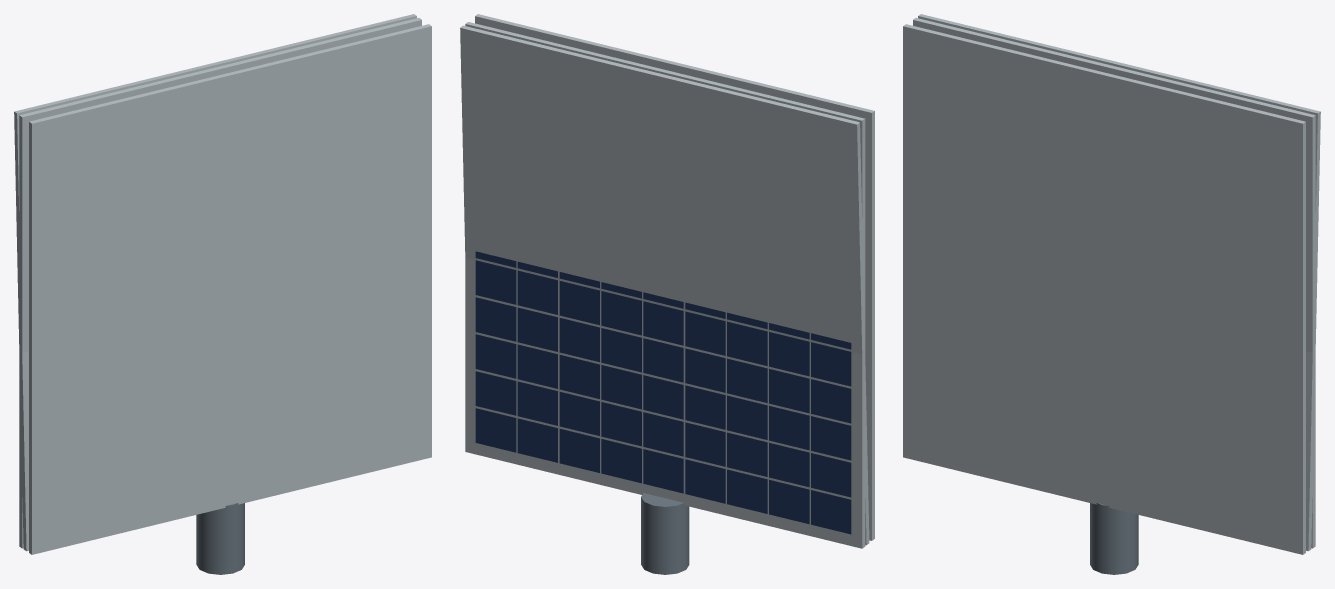
Rendered from orion_solar_wing_stowed.glb.
3 views of the same model, side by side, from view 1: azimuth 30°, elevation 25°; view 2: azimuth 150°, elevation 25°; view 3: azimuth 330°, elevation 25° (orthographic).
Parts seen in each view (by area): view 1: orion_esmwing_01panel_01panel_02panel_03cellsmesh_Satin_alum, orion_esmwing_01panel_01cellsmesh_Satin_aluminum, orion_esmwing_01panel_01panel_02cellsmesh_Satin_aluminum, orion_esmwing_01mesh_Machined_steel; view 2: orion_esmwing_01panel_01panel_02cellsmesh_Satin_aluminum, orion_esmwing_01panel_01cellsmesh_Indigo_solar_cells, orion_esmwing_01panel_01cellsmesh_Satin_aluminum, orion_esmwing_01panel_01panel_02panel_03cellsmesh_Satin_alum, orion_esmwing_01mesh_Machined_steel; view 3: orion_esmwing_01panel_01panel_02panel_03cellsmesh_Satin_alum, orion_esmwing_01panel_01cellsmesh_Satin_aluminum, orion_esmwing_01panel_01panel_02cellsmesh_Satin_aluminum, orion_esmwing_01mesh_Machined_steel.
Boxes of the visible parts, box(x1,y1,x2,y2) form: orion_esmwing_01panel_01panel_02panel_03cellsmesh_Satin_alum: box(29, 24, 431, 554); orion_esmwing_01panel_01cellsmesh_Satin_aluminum: box(19, 18, 421, 548); orion_esmwing_01panel_01panel_02cellsmesh_Satin_aluminum: box(14, 14, 416, 551); orion_esmwing_01mesh_Machined_steel: box(196, 503, 244, 574); orion_esmwing_01panel_01panel_02cellsmesh_Satin_aluminum: box(460, 25, 869, 545); orion_esmwing_01panel_01cellsmesh_Indigo_solar_cells: box(475, 251, 851, 534); orion_esmwing_01panel_01cellsmesh_Satin_aluminum: box(465, 22, 865, 548); orion_esmwing_01panel_01panel_02panel_03cellsmesh_Satin_alum: box(475, 14, 874, 540); orion_esmwing_01mesh_Machined_steel: box(641, 493, 689, 574); orion_esmwing_01panel_01panel_02panel_03cellsmesh_Satin_alum: box(903, 24, 1305, 554); orion_esmwing_01panel_01cellsmesh_Satin_aluminum: box(913, 18, 1315, 548); orion_esmwing_01panel_01panel_02cellsmesh_Satin_aluminum: box(918, 14, 1320, 551); orion_esmwing_01mesh_Machined_steel: box(1090, 503, 1138, 574).
Size of the model in its own units: 1.65 by 1.96 by 0.174.
